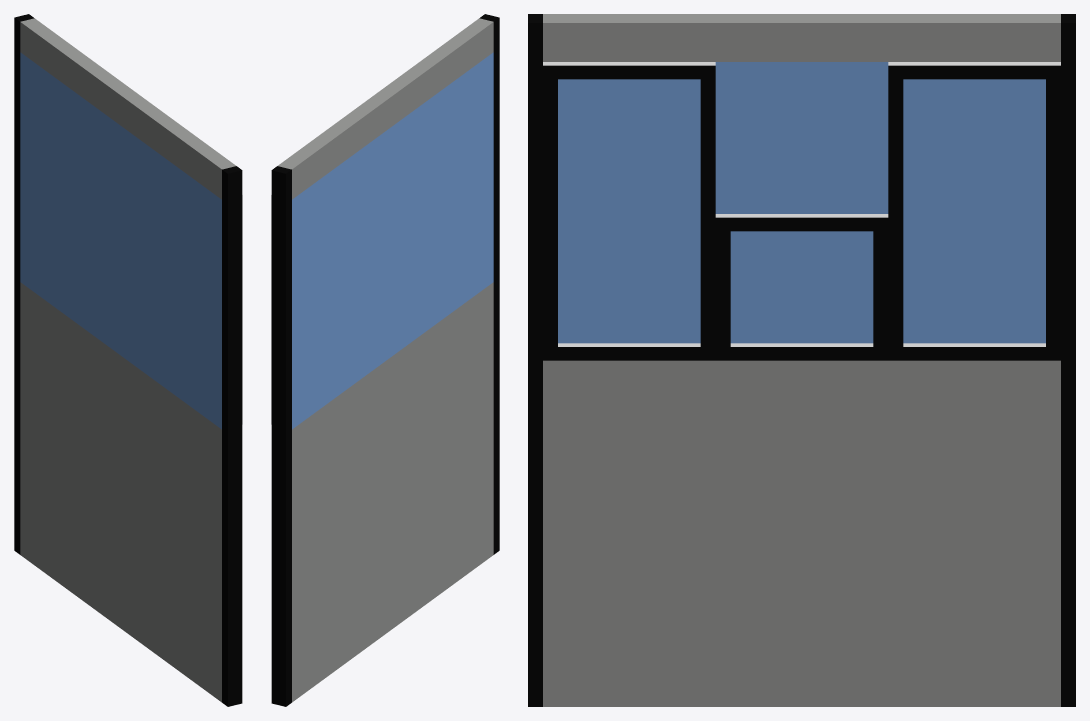
File: wall-2.glb
3 views of the same model, side by side, from view 1: azimuth 30°, elevation 25°; view 2: azimuth 150°, elevation 25°; view 3: azimuth 270°, elevation 25° (orthographic). The views are drawn at different scales.
Visible parts, largest first — view 1: Cube; view 2: Cube; view 3: Cube.
Boxes of the visible parts, x1,y1,x2,y2 form: Cube: [14, 14, 242, 706]; Cube: [271, 14, 499, 706]; Cube: [528, 14, 1075, 706].
Size of the model in its own units: 0.6105 by 15.17 by 11.01.
